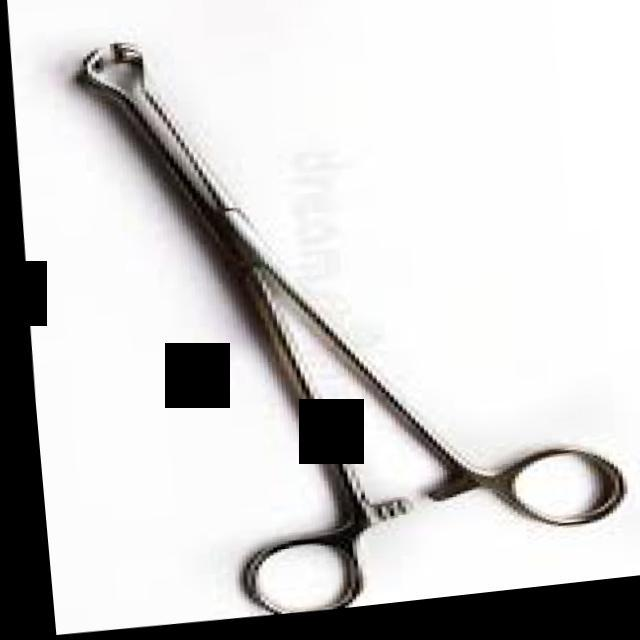Artery Forceps: (49, 0, 640, 636)
